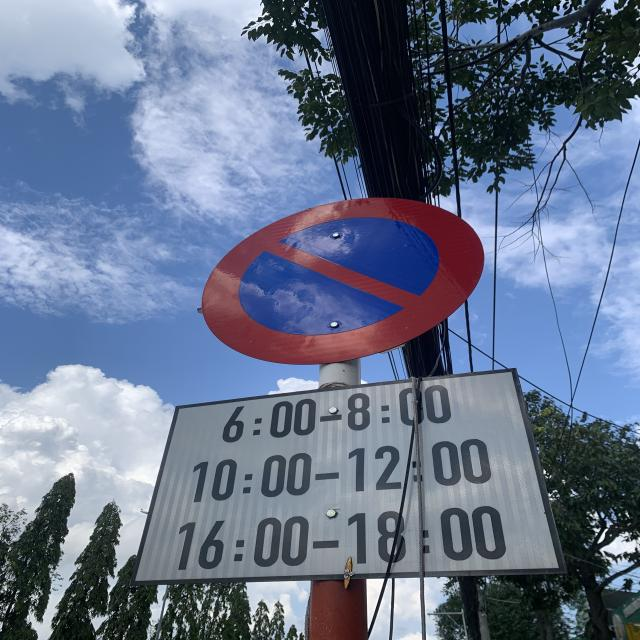Cam_Dau_Xe: (199, 196, 486, 366)
